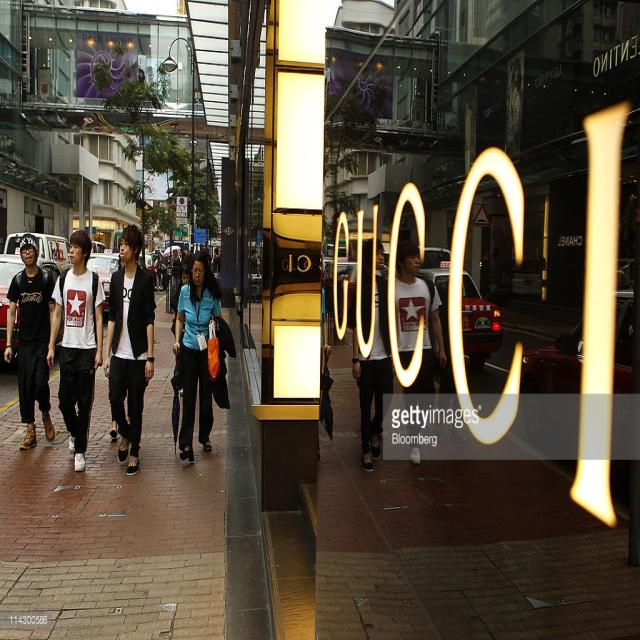body: (322, 221, 442, 473), (44, 223, 105, 479), (98, 220, 156, 481), (169, 245, 237, 466), (3, 229, 58, 452), (169, 261, 192, 399), (154, 243, 196, 292), (210, 247, 224, 304), (143, 170, 158, 202), (248, 246, 260, 280), (144, 64, 154, 86)
